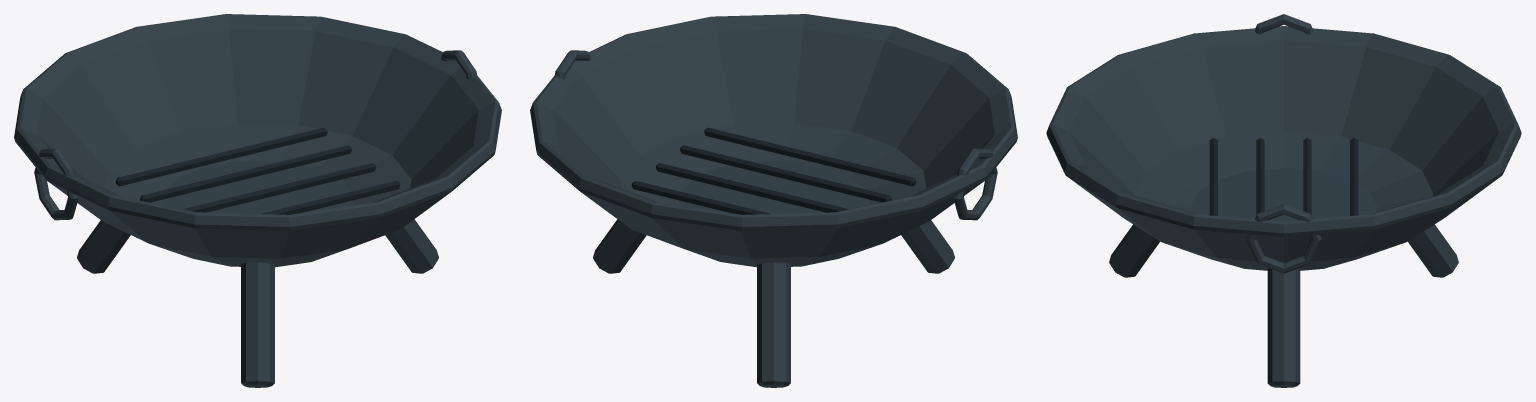
File: b11_steel_fire_bowl.glb
The picture shows the model from 3 angles, left to right: view 1: azimuth 30°, elevation 25°; view 2: azimuth 150°, elevation 25°; view 3: azimuth 270°, elevation 25°; orthographic projection. The views are drawn at different scales.
Parts seen in each view (by area): view 1: b11_steel_fire_bowl; view 2: b11_steel_fire_bowl; view 3: b11_steel_fire_bowl.
Part boxes in pixels (left/top/right/bottom): b11_steel_fire_bowl: left=14, top=14, right=501, bottom=387; b11_steel_fire_bowl: left=530, top=14, right=1017, bottom=387; b11_steel_fire_bowl: left=1046, top=14, right=1521, bottom=387.
Bounding box in the file's own units: 1.02 × 0.4809 × 1.02.
